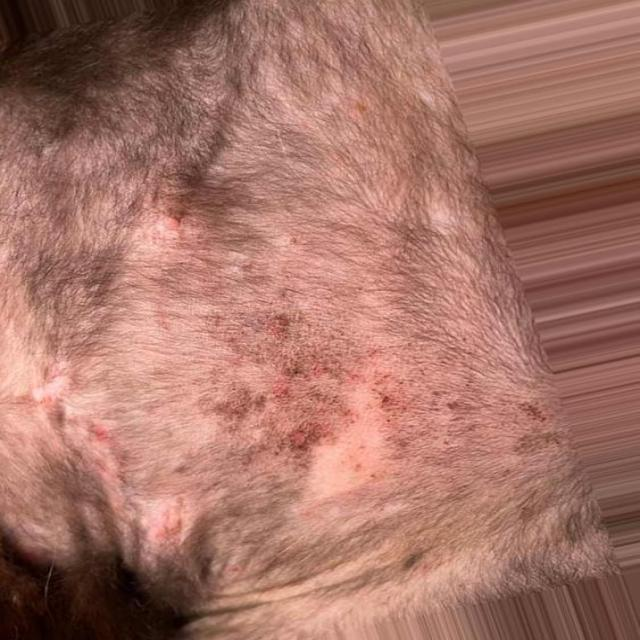di ung bo chet: (68, 188, 592, 640)
